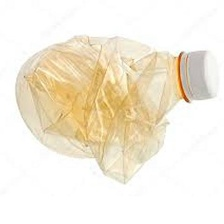bottle: (7, 24, 223, 190)
